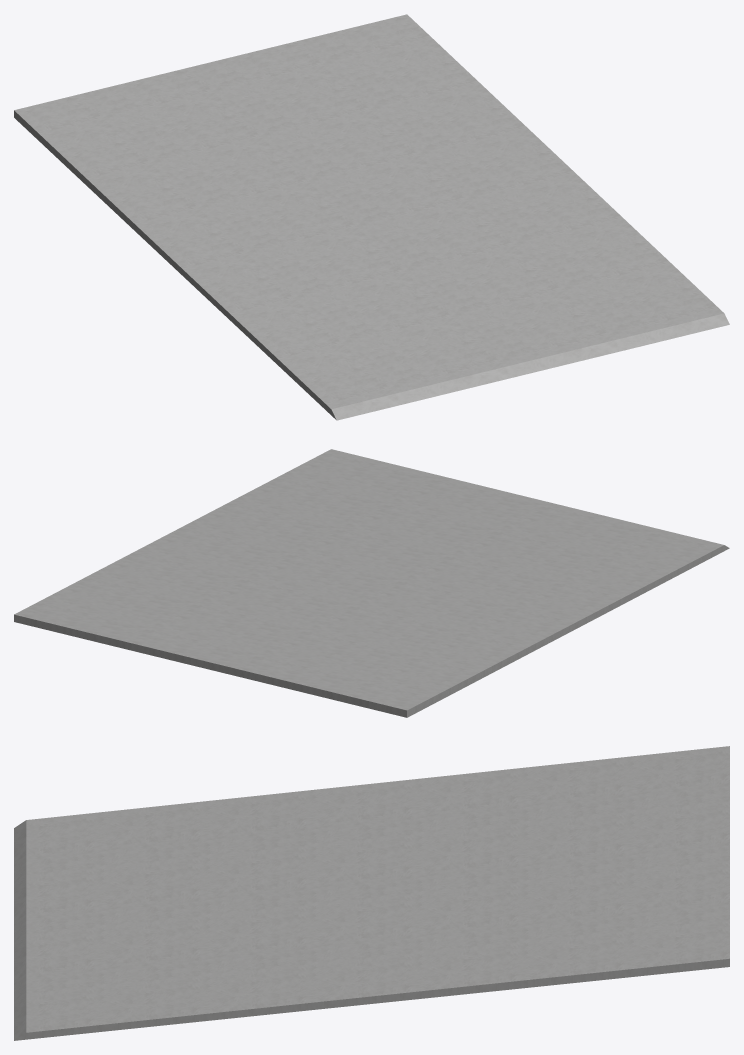
The model's file is rampa.gltf.
3 views of the same model, one above another, from view 1: azimuth 30°, elevation 25°; view 2: azimuth 150°, elevation 25°; view 3: azimuth 270°, elevation 25° (orthographic). The views are drawn at different scales.
Parts seen in each view (by area): view 1: rampa; view 2: rampa; view 3: rampa.
Boxes of the visible parts, box(x1,y1,x2,y2) form: rampa: box(14, 14, 729, 420); rampa: box(14, 449, 729, 717); rampa: box(14, 746, 729, 1040).
Bounding box in the file's own units: 5.55 × 1 × 7.9.
1 material, 1 textured.
